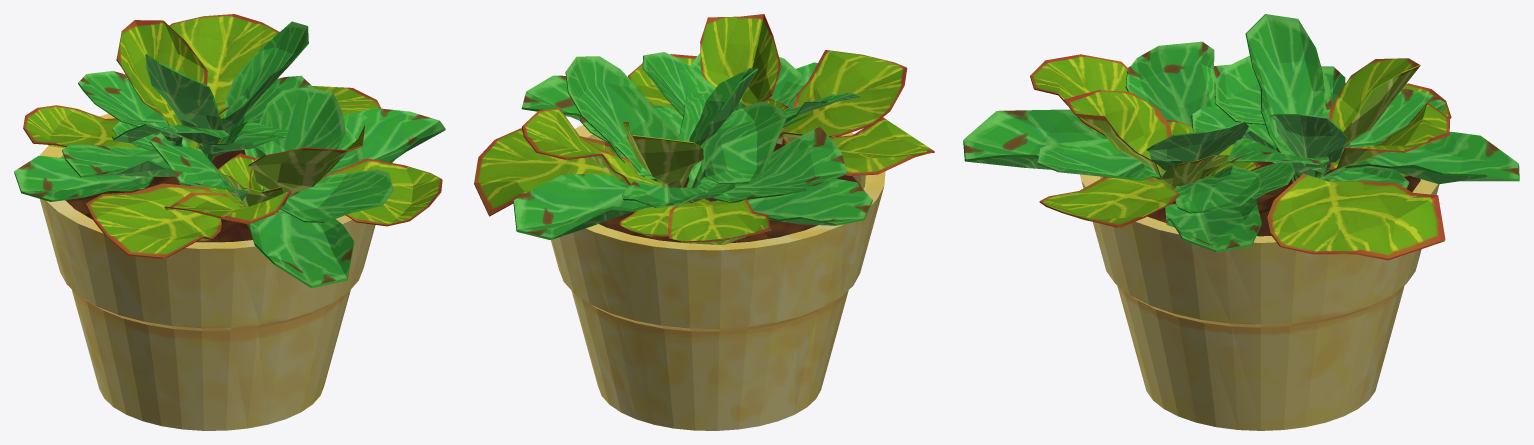
Rendered from Bergenia_Neutral_End.glb.
3 renders of one model, left to right at view 1: azimuth 30°, elevation 25°; view 2: azimuth 150°, elevation 25°; view 3: azimuth 270°, elevation 25°, orthographic. The views are drawn at different scales.
Parts seen in each view (by area): view 1: leaf_1.002, Pot.002; view 2: leaf_1.002, Pot.002; view 3: leaf_1.002, Pot.002.
Part boxes in pixels (x1,y1,x2,y2): leaf_1.002: (14,14,445,288); Pot.002: (40,113,375,430); leaf_1.002: (474,14,934,245); Pot.002: (551,125,885,430); leaf_1.002: (963,14,1519,260); Pot.002: (1080,149,1439,430).
Size of the model in its own units: 2.54 by 2.11 by 3.11.
Materials: 4 (4 with a texture image).
